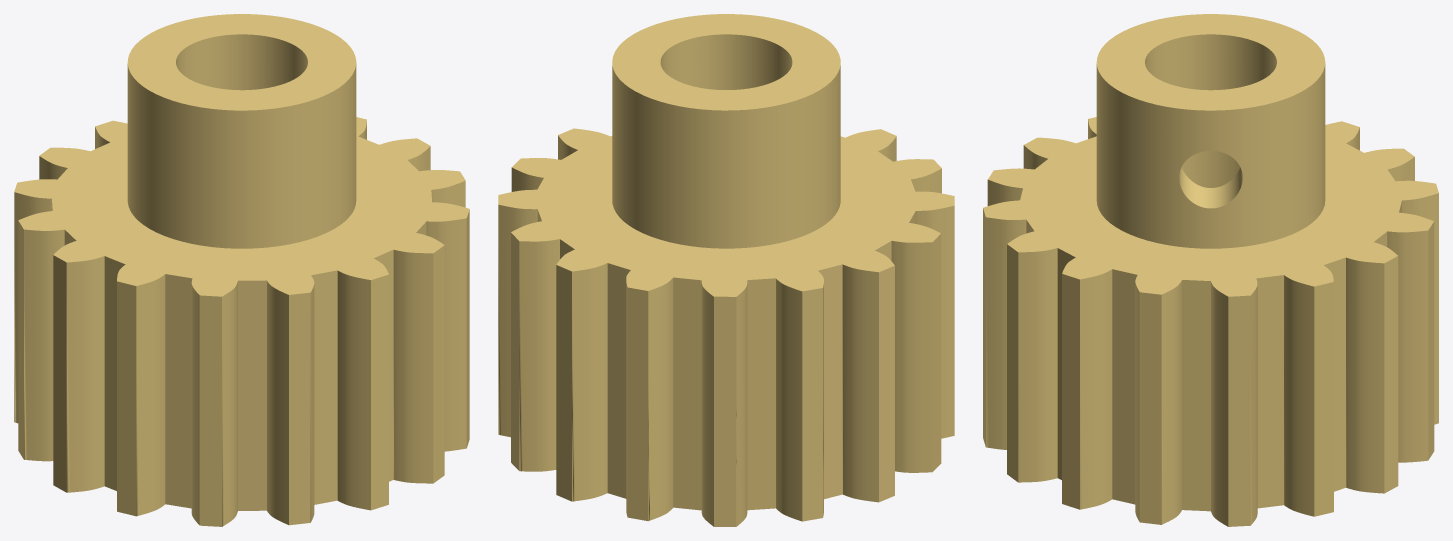
The picture shows the model from 3 angles, left to right: view 1: azimuth 30°, elevation 25°; view 2: azimuth 150°, elevation 25°; view 3: azimuth 270°, elevation 25°; orthographic projection.
Size of the model in its own units: 0.0179 by 0.016 by 0.0179.
